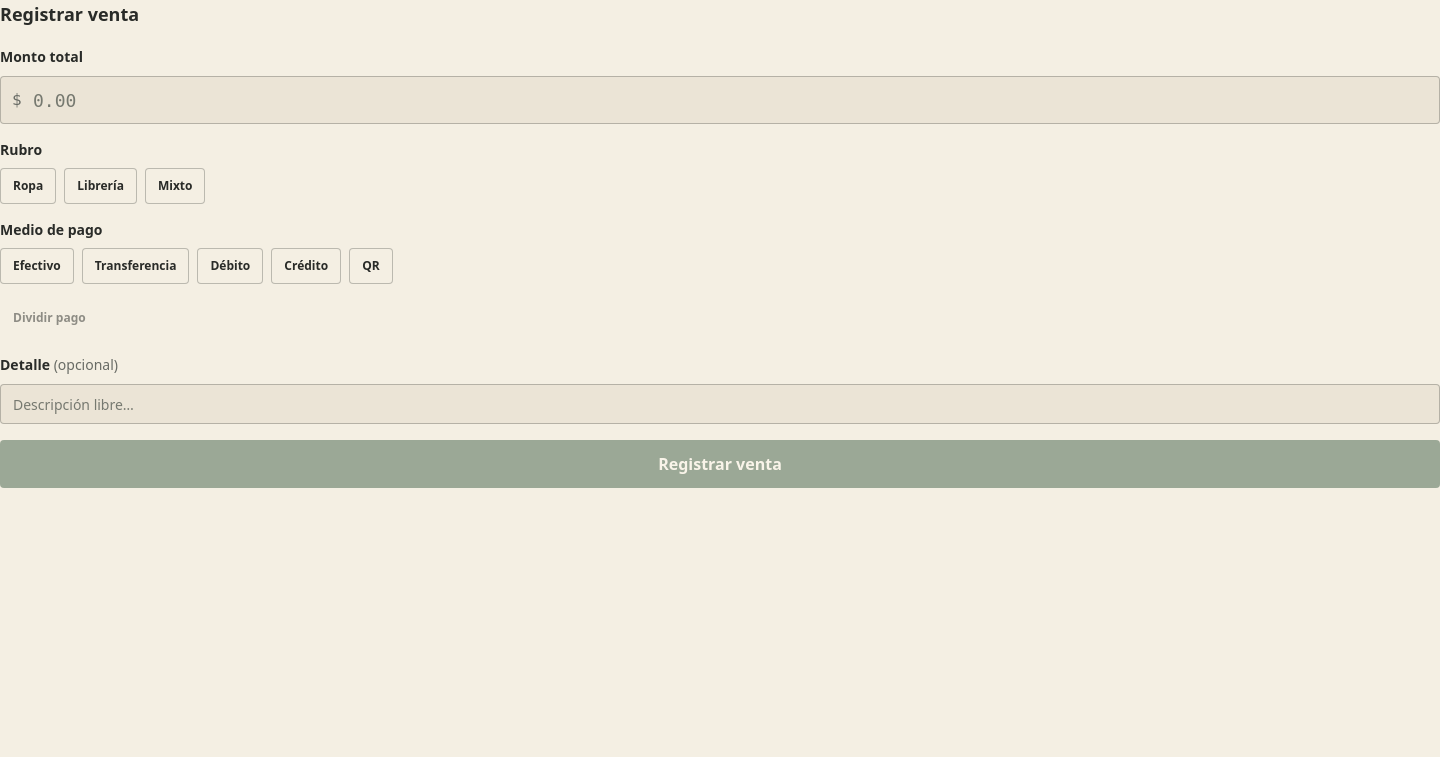
it: SaleForm › requires recipient when additional method is transfer
The image size is (1440, 757).
Type "100.00" into the field labelled "Monto total" at (720, 100), box [0,76,1439,124]
Click the button "Ropa" at (28, 186), box [0,168,56,204]
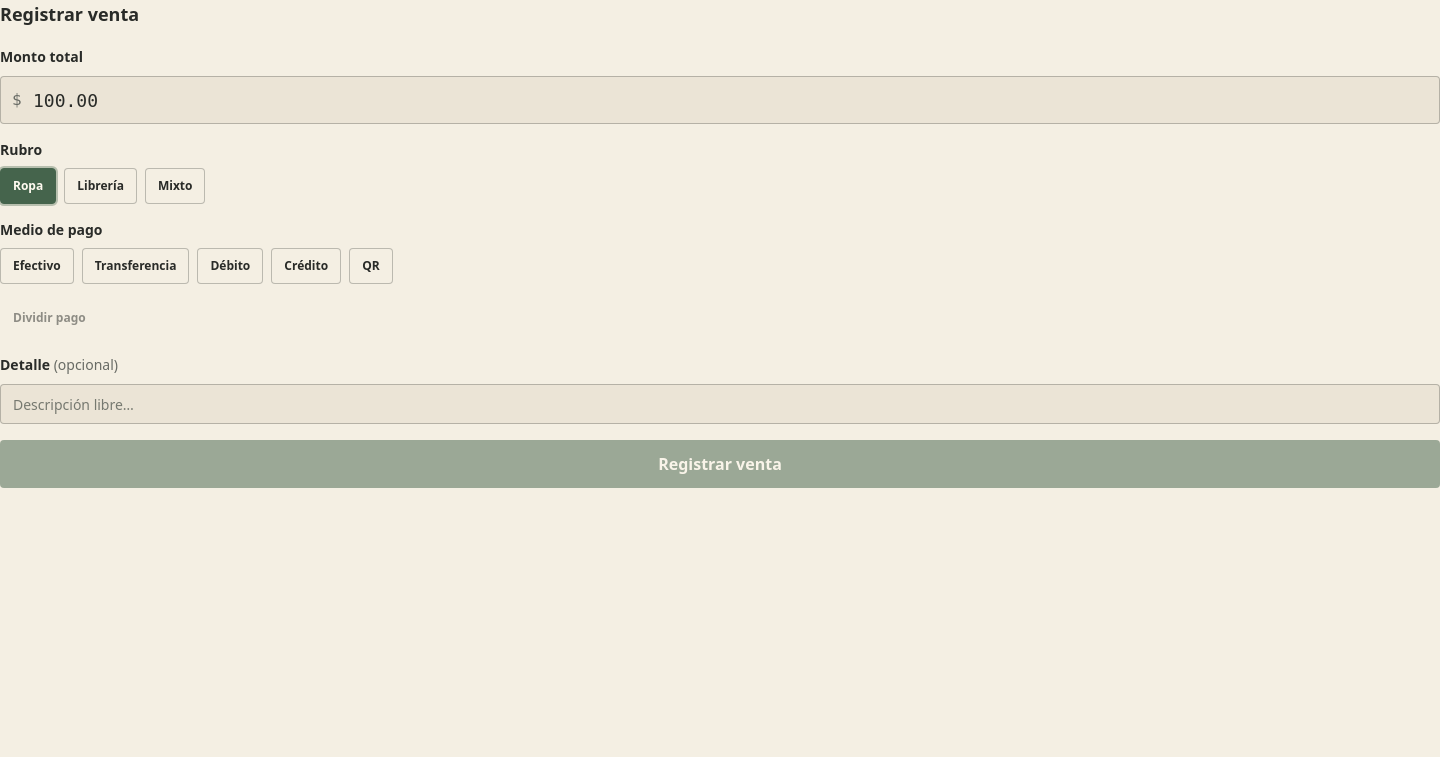
Click the button "Efectivo" at (37, 266), box [0,248,74,284]
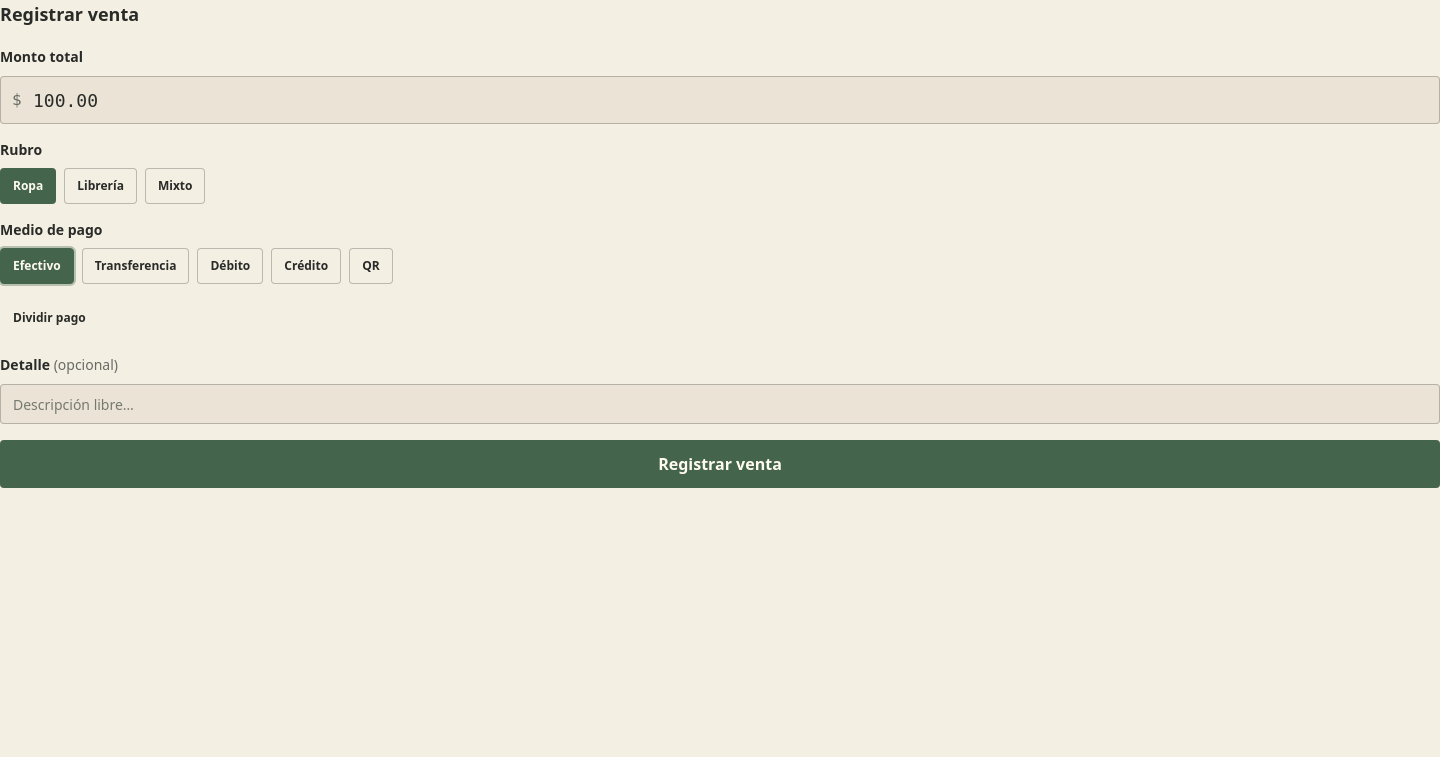
Click the button "Dividir pago" at (49, 318), box [0,300,99,336]
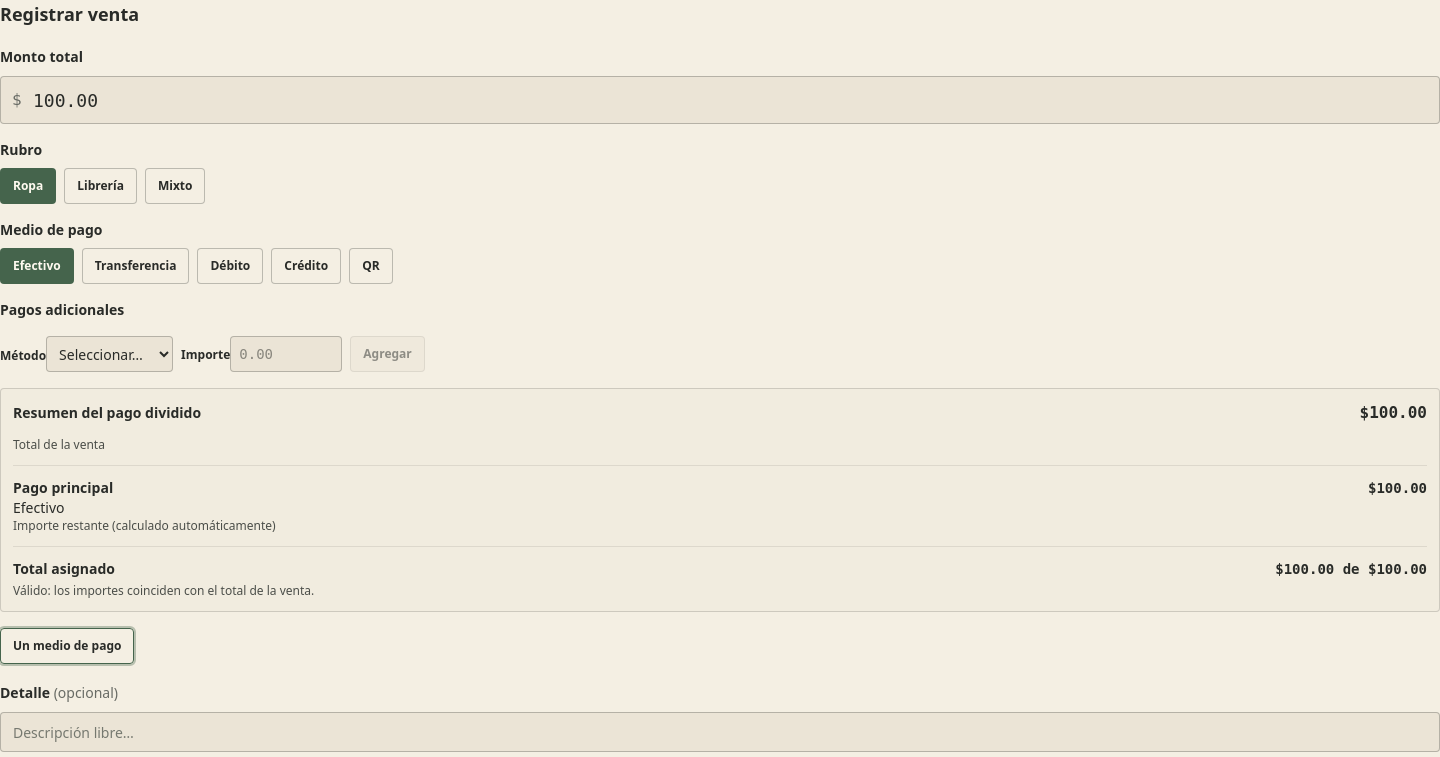
Select "Transferencia" in the dropdown labelled "Método" at (110, 354), box [46,336,173,372]
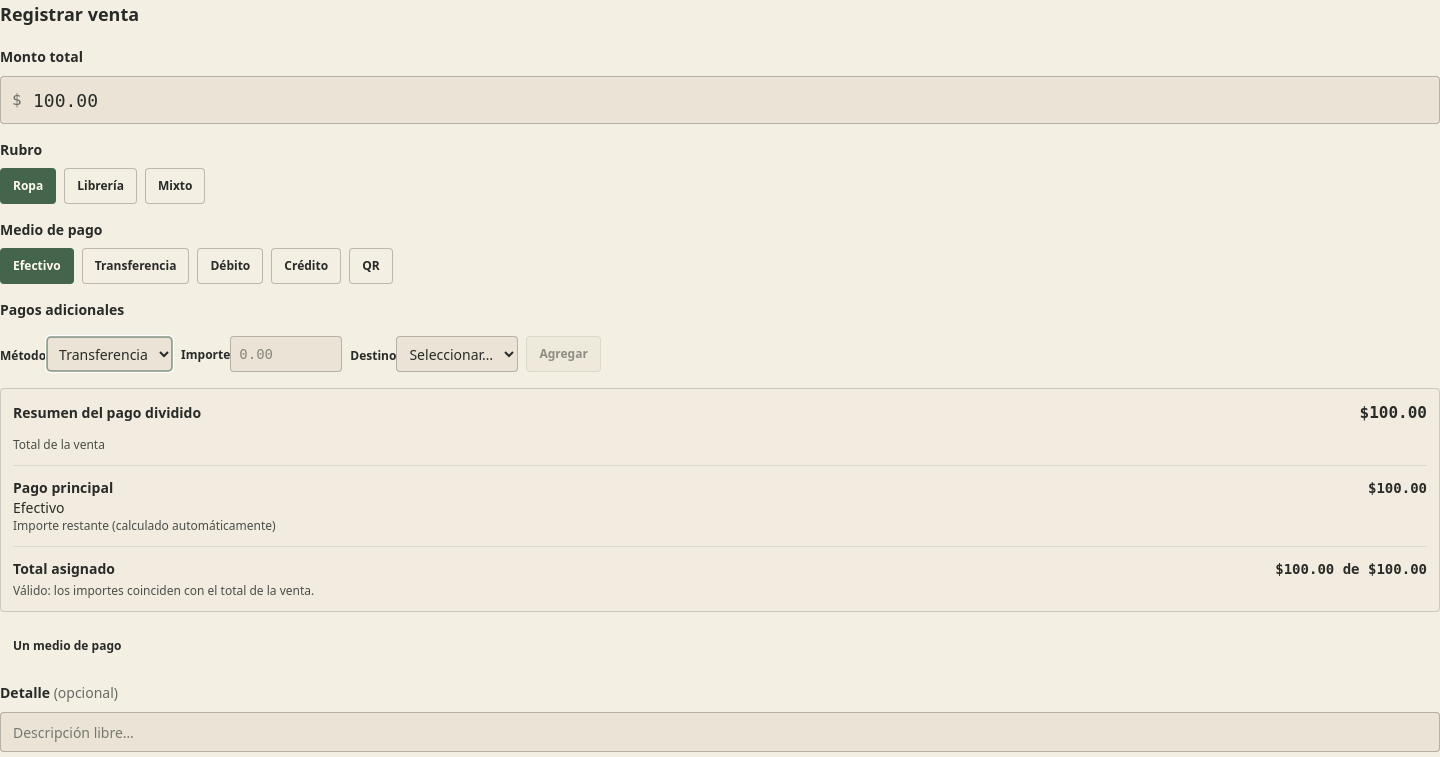
Type "20.00" into the field labelled "Importe" at (286, 354), box [230,336,342,372]
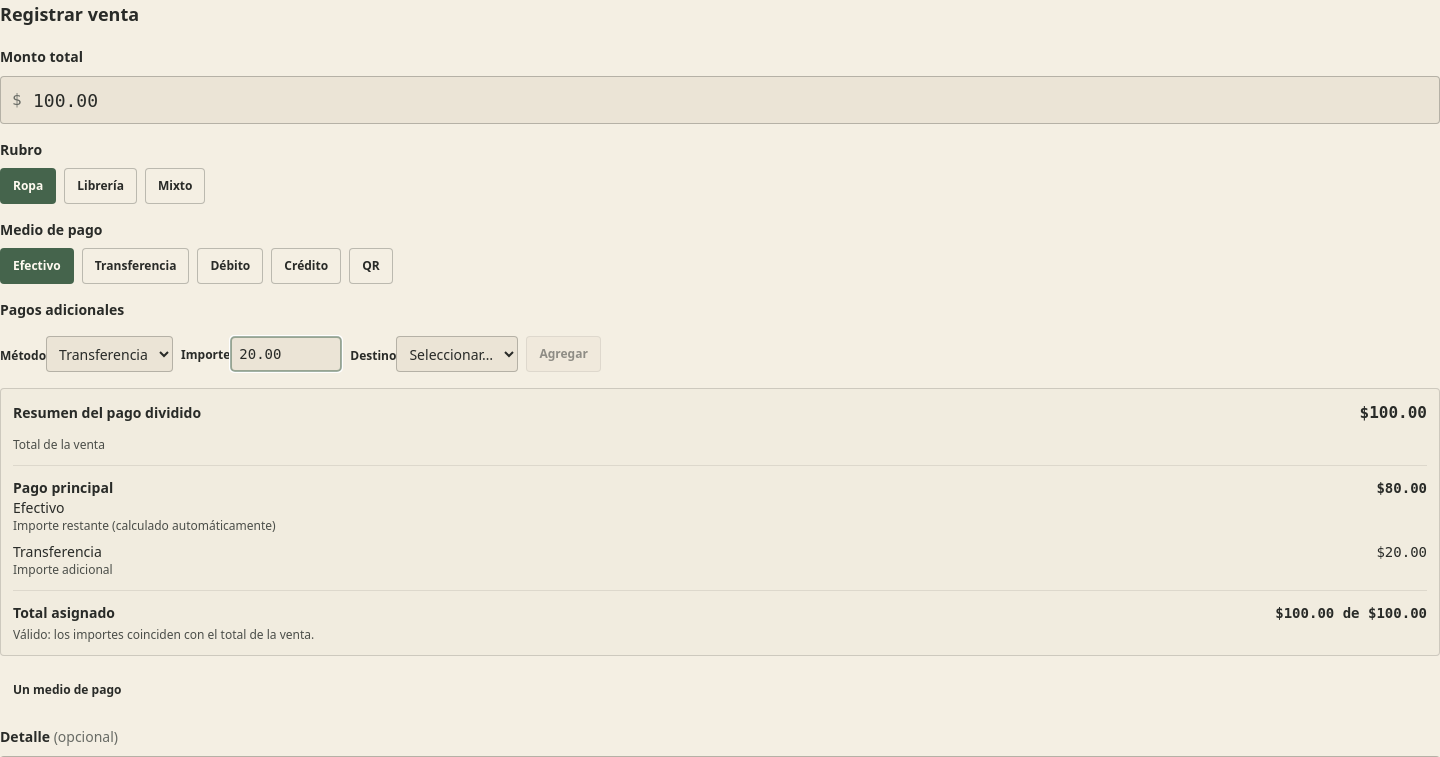
Expected: the button "Agregar" is disabled, [526,336,601,372]
Select recipient
Select "Juan" in the dropdown labelled "Destino" at (457, 354), box [396,336,518,372]
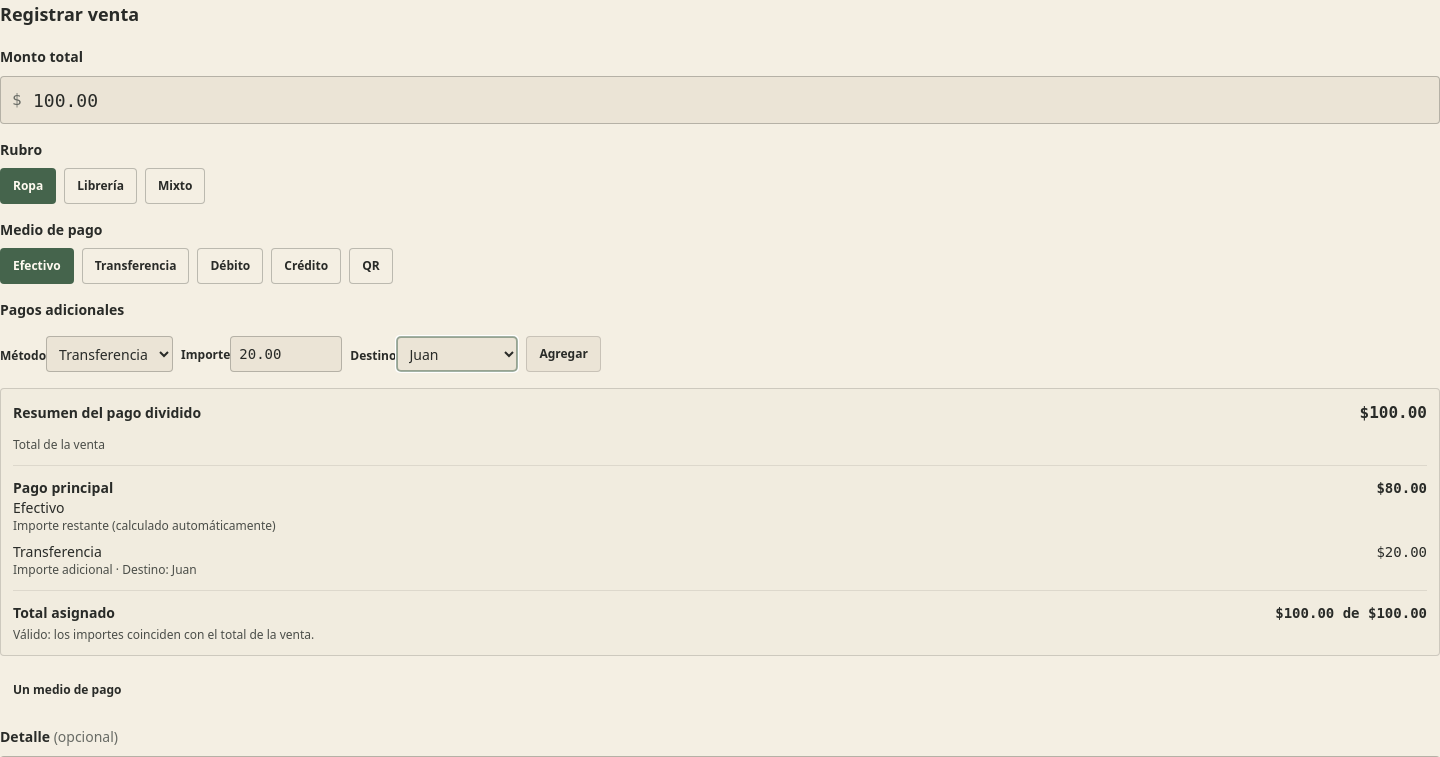
Expected: the button "Agregar" is enabled, [526,336,601,372]
